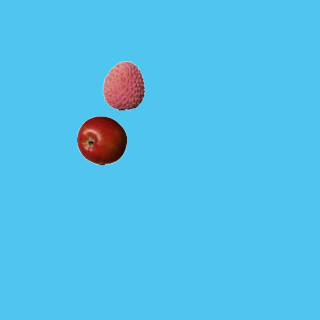Apple Braeburn: (76, 115, 126, 165)
Lychee: (98, 60, 148, 110)
